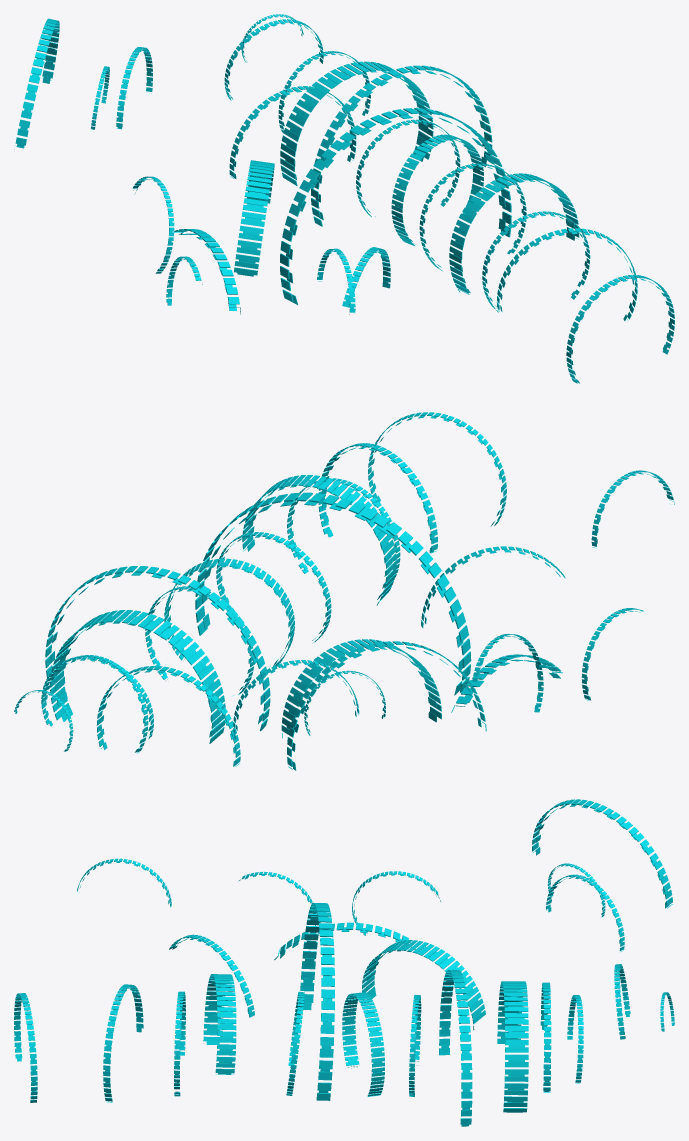
Rendered from BackgroundColorRings.fbx.
3 renders of one model, top to bottom at view 1: azimuth 30°, elevation 25°; view 2: azimuth 150°, elevation 25°; view 3: azimuth 270°, elevation 25°, orthographic. The views are drawn at different scales.
Visible parts, largest first — view 1: BackgroundColorRings; view 2: BackgroundColorRings; view 3: BackgroundColorRings.
Boxes of the visible parts, x1=… form: BackgroundColorRings: x1=14, y1=14, x2=674, y2=383; BackgroundColorRings: x1=14, y1=412, x2=674, y2=770; BackgroundColorRings: x1=14, y1=799, x2=674, y2=1126.
Size of the model in its own units: 39.59 by 15.89 by 56.99.
